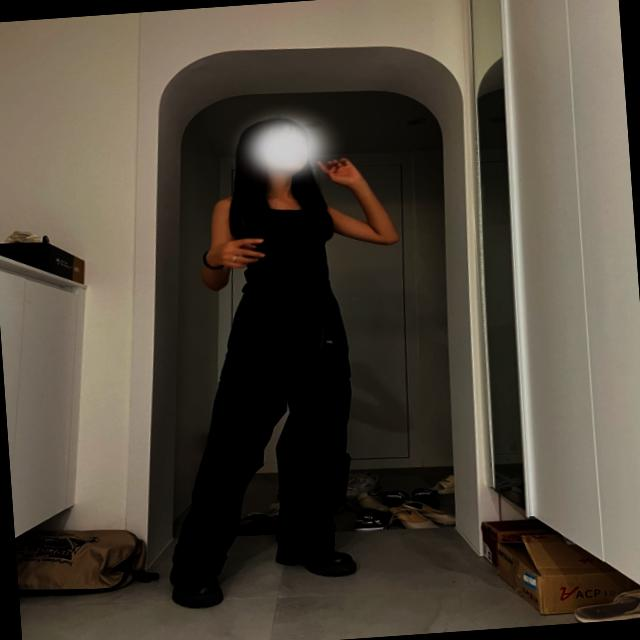cottonpants: (146, 268, 360, 584)
shortsleeve: (226, 190, 341, 293)
